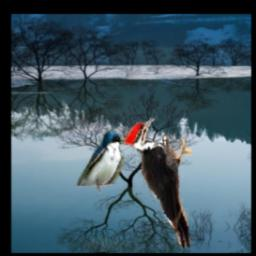Swallow: (76, 129, 124, 194)
Woodpecker: (124, 115, 190, 249)
